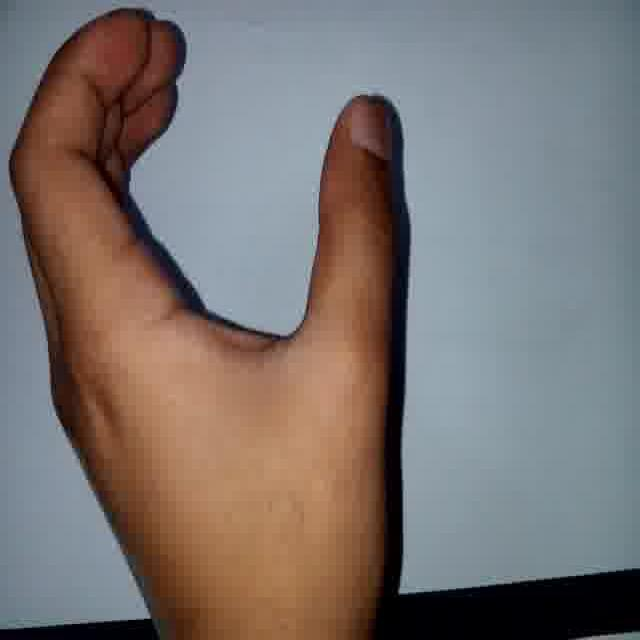Alphabet-C: (8, 9, 406, 598)
